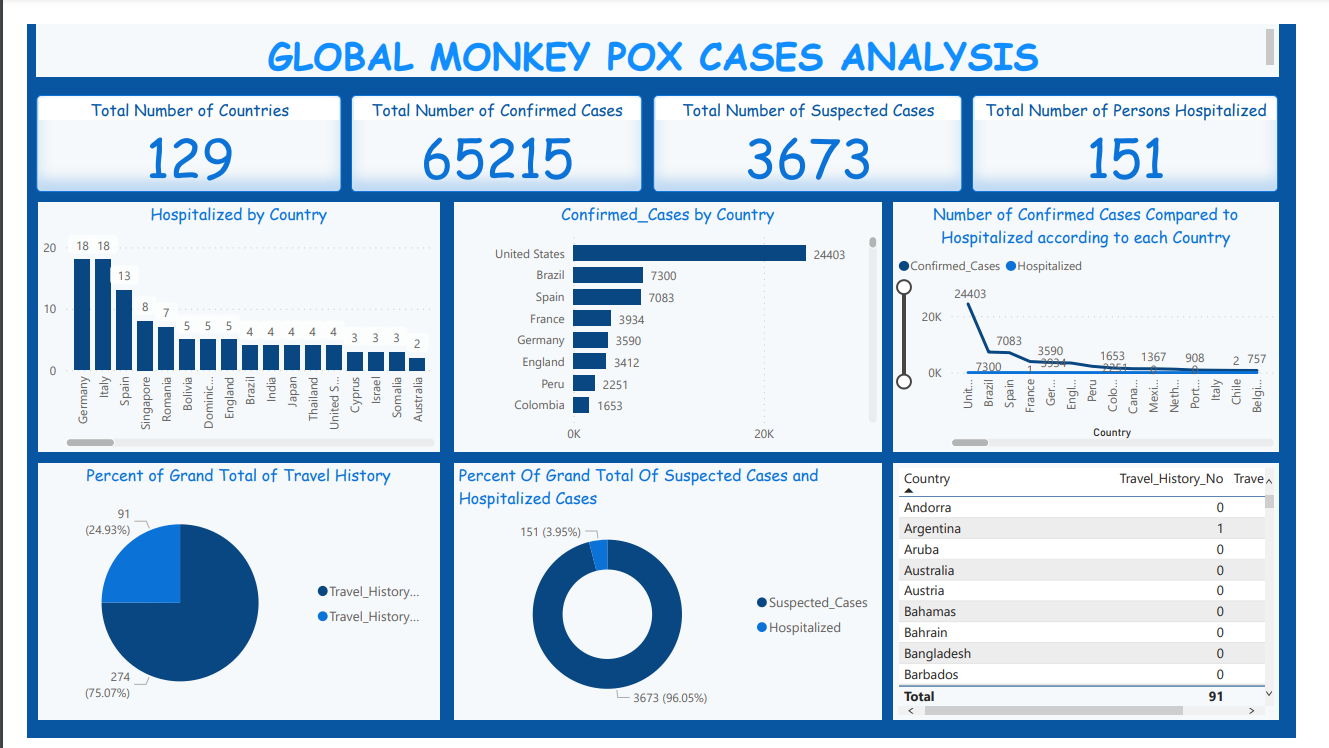

Layout of this report page (visuals, bound fields, positions):
{"tool":"powerbi","page":{"name":"Visualization","canvas":[1280,720],"ordinal":0},"visuals":[{"type":"textbox","box":[9.6,0,1253.7,52.5],"z":0},{"type":"card","title":"Total Number of Countries","fields":{"Values":["CountNonNull(Monkey Pox Cases.Country)"]},"box":[9.6,71.6,308.1,97.9],"z":1000},{"type":"card","title":"Total Number of Confirmed Cases","fields":{"Values":["Sum(Monkey Pox Cases.Confirmed_Cases)"]},"box":[327.2,71.6,293.7,97.9],"z":2000},{"type":"card","title":"Total Number of Suspected Cases","fields":{"Values":["Sum(Monkey Pox Cases.Suspected_Cases)"]},"box":[631.6,71.6,311.6,97.9],"z":3000},{"type":"card","title":"Total Number of Persons Hospitalized","fields":{"Values":["Sum(Monkey Pox Cases.Hospitalized)"]},"box":[954,71.6,309.3,97.9],"z":4000},{"type":"barChart","fields":{"Category":["Monkey Pox Cases.Country"],"Y":["Sum(Monkey Pox Cases.Confirmed_Cases)"]},"box":[431,179.1,432.2,251.9],"z":5000},{"type":"lineClusteredColumnComboChart","fields":{"Category":["Monkey Pox Cases.Country"],"Y":["Sum(Monkey Pox Cases.Hospitalized)"]},"box":[11.9,179.1,404.8,251.9],"z":6000},{"type":"pieChart","title":"Percent of Grand Total of Travel History","fields":{"Y":["Sum(Monkey Pox Cases.Travel_History_Yes)","Sum(Monkey Pox Cases.Travel_History_No)"]},"box":[11.9,443,404.8,259.1],"z":7000},{"type":"donutChart","title":"Percent Of Grand Total Of  Suspected Cases and Hospitalized Cases","fields":{"Y":["Sum(Monkey Pox Cases.Suspected_Cases)","Sum(Monkey Pox Cases.Hospitalized)"]},"box":[431,443,432.2,259.1],"z":8000},{"type":"lineChart","title":"Number of Confirmed Cases Compared to Hospitalized according to each Country","fields":{"Y":["Sum(Monkey Pox Cases.Confirmed_Cases)","Sum(Monkey Pox Cases.Hospitalized)"],"Category":["Monkey Pox Cases.Country"]},"box":[874,179.1,389.3,251.9],"z":9000},{"type":"tableEx","fields":{"Values":["Monkey Pox Cases.Country","Sum(Monkey Pox Cases.Travel_History_No)","Sum(Monkey Pox Cases.Travel_History_Yes)"]},"box":[874,443,389.3,259.1],"z":10000}]}

Visuals, with their boxes in screenshot pixels (x1, y1, x2, y2), scaled from the page's 1280x720 canvas onto the 1329x748 screenshot:
textbox: detection(10, 0, 1312, 55)
"Total Number of Countries" card: detection(10, 74, 330, 176)
"Total Number of Confirmed Cases" card: detection(340, 74, 645, 176)
"Total Number of Suspected Cases" card: detection(656, 74, 979, 176)
"Total Number of Persons Hospitalized" card: detection(991, 74, 1312, 176)
barChart - Monkey Pox Cases.Country x Sum(Monkey Pox Cases.Confirmed_Cases): detection(447, 186, 896, 448)
lineClusteredColumnComboChart - Monkey Pox Cases.Country x Sum(Monkey Pox Cases.Hospitalized): detection(12, 186, 433, 448)
"Percent of Grand Total of Travel History" pieChart: detection(12, 460, 433, 729)
"Percent Of Grand Total Of  Suspected Cases and Hospitalized Cases" donutChart: detection(447, 460, 896, 729)
"Number of Confirmed Cases Compared to Hospitalized according to each Country" lineChart: detection(907, 186, 1312, 448)
tableEx - Monkey Pox Cases.Country x Sum(Monkey Pox Cases.Travel_History_No): detection(907, 460, 1312, 729)
